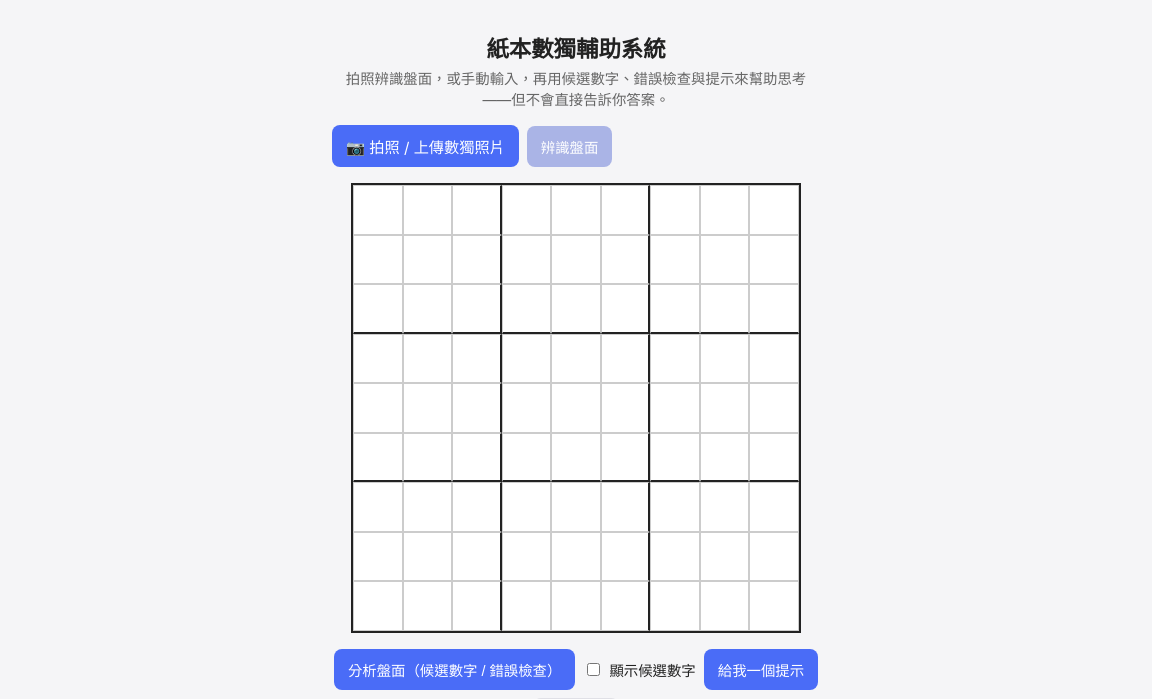
App › flags a manually marked candidate that conflicts with a placed digit
This screenshot has width=1152, height=699.
Later steps or results of the test are not shown.
Type "4" into the 2nd field with class "cell-input" at x=427, y=210, box x1=404 y1=186 x2=451 y2=234
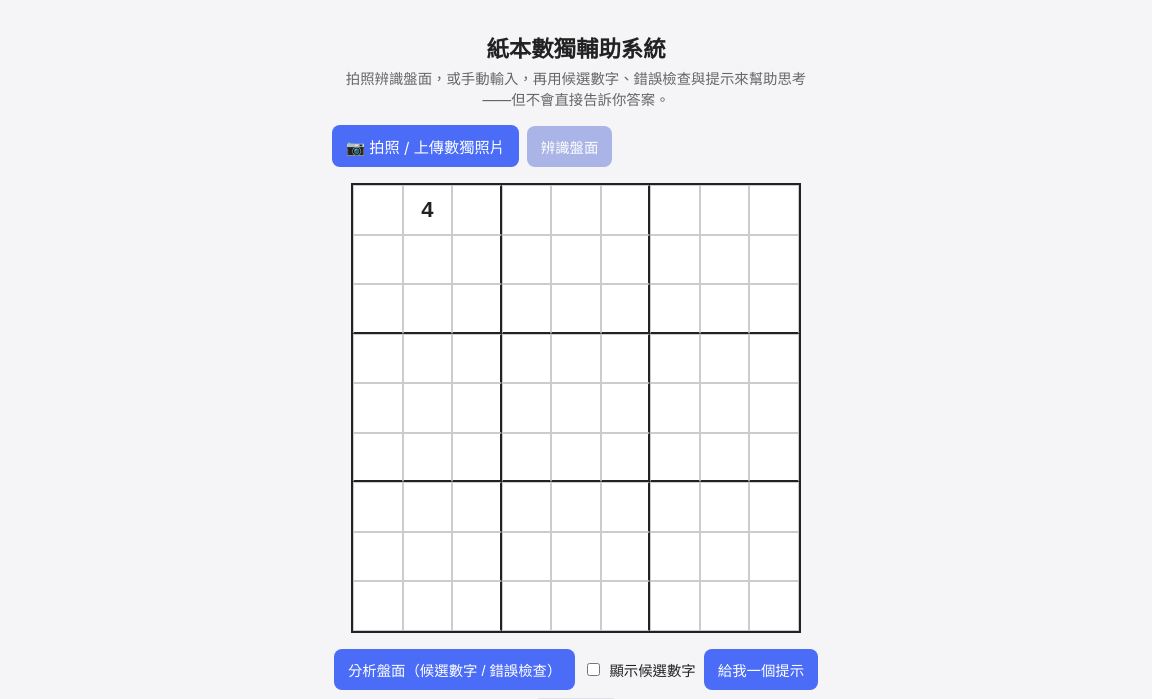
Press the mouse on the 1st element with class "cell" at x=378, y=210, box x1=353 y1=185 x2=402 y2=234
Wait 500 ms
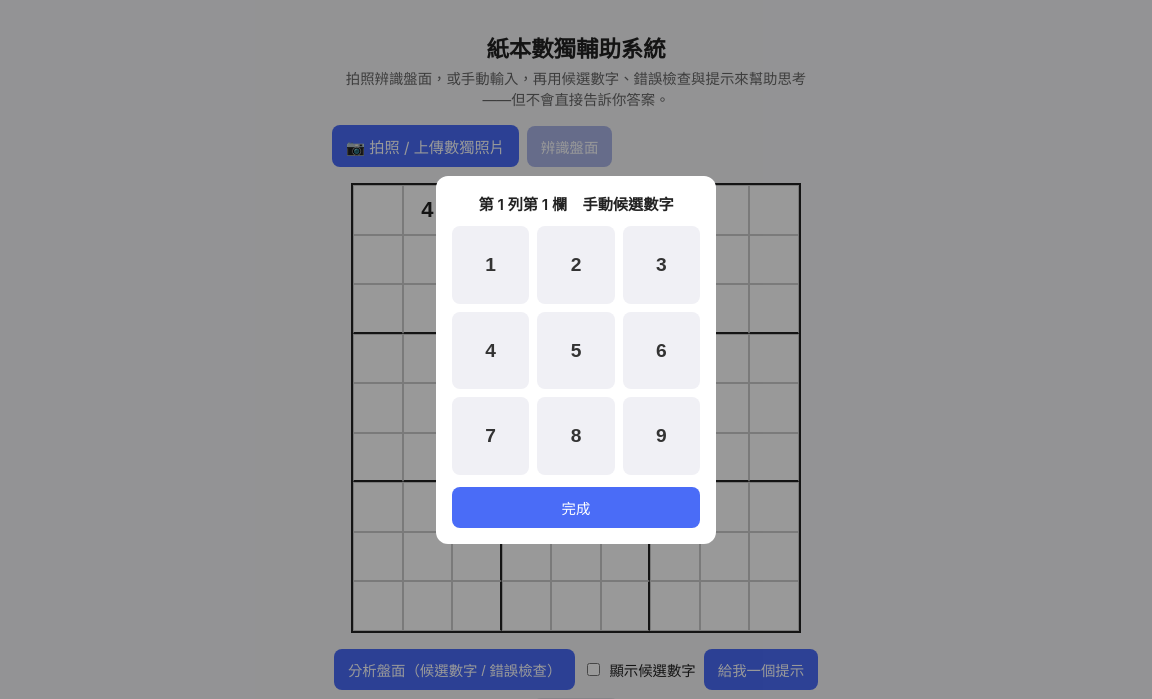
Click the button "4" at x=491, y=350, box x1=452 y1=312 x2=529 y2=389
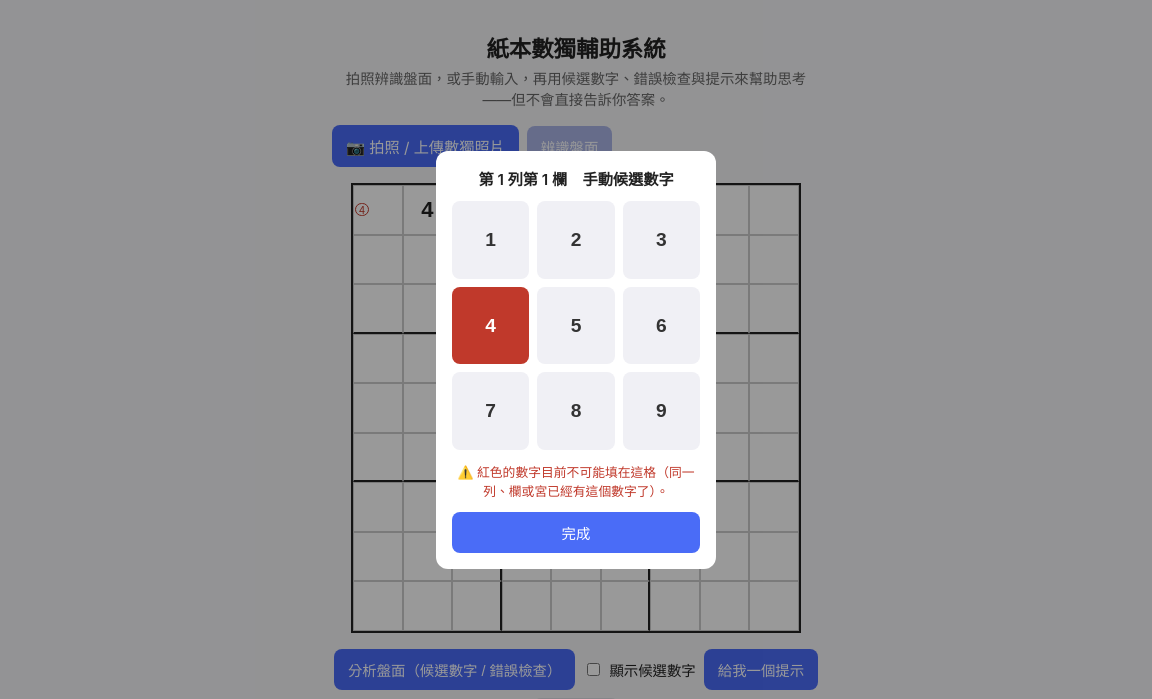
expect the text "⚠️ 紅色的數字目前不可能填在這格（同一列、欄或宮已經有這個數字了）。" is shown: met, box x1=452 y1=462 x2=700 y2=500
